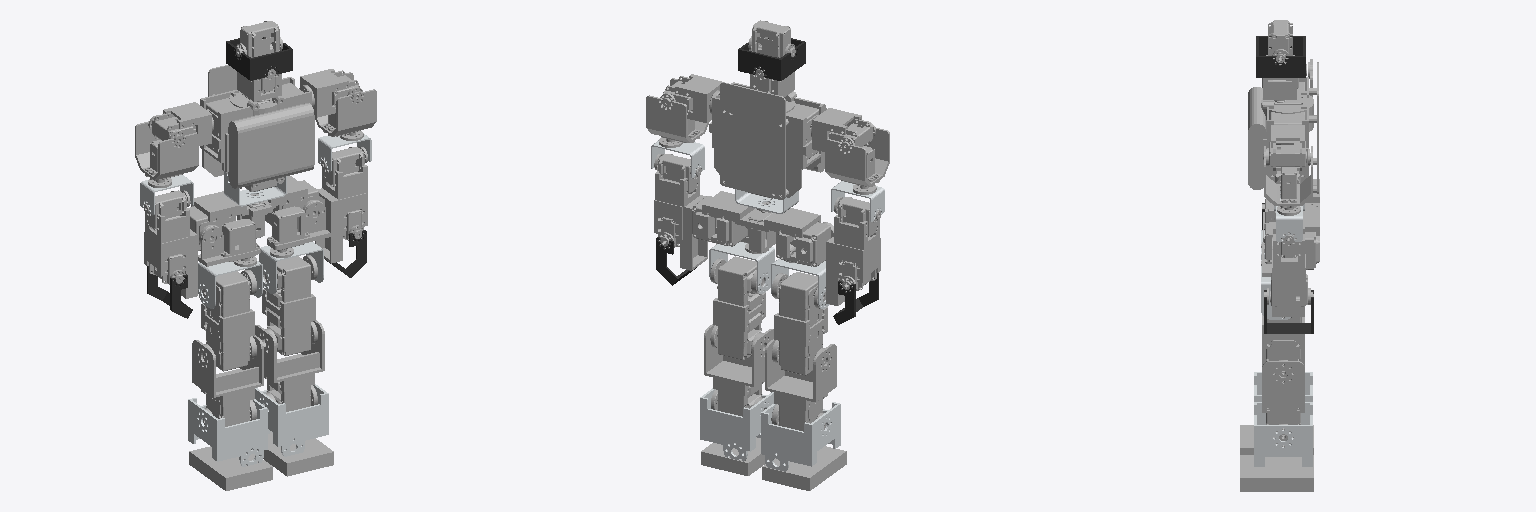
--- What the picture shows (computed from the rendered views, not written in the file) ---
The picture shows the robot from 3 angles, left to right: view 1: azimuth 30°, elevation 25°; view 2: azimuth 150°, elevation 25°; view 3: azimuth 270°, elevation 25°; orthographic projection.
Robot: human_robot — 30 links, 29 joints (12 continuous, 17 fixed); root link base_link; default pose: all joints at 0.
Links seen in each view (by area): view 1: body_link, R_armD_Link, L_armD_Link, R_thignD_Link, L_thignD_Link, R_shank_Link, L_shank_Link, waist_Link, R_ankle_Link, R_arm_Link, L_ankle_Link, L_hip_Link (+16 smaller); view 2: body_link, waist_Link, R_thignD_Link, L_thignD_Link, R_armD_Link, L_armD_Link, R_shank_Link, L_shank_Link, R_ankle_Link, R_arm_Link, L_ankle_Link, L_arm_Link (+14 smaller); view 3: body_link, L_armD_Link, L_shank_Link, L_ankle_Link, L_foot_Link, L_arm_Link, L_shoulder_Link, face_Link, L_thignD_Link, waist_Link, head_Link, neck_Link (+3 smaller).
Boxes of the visible links, x1,y1,x2,y2 form: body_link: (200,65,314,191); R_armD_Link: (144,190,197,298); L_armD_Link: (315,147,367,263); R_thignD_Link: (201,270,256,371); L_thignD_Link: (262,255,317,355); R_shank_Link: (192,335,263,426); L_shank_Link: (255,320,324,411); waist_Link: (188,176,323,250); R_ankle_Link: (188,398,267,466); R_arm_Link: (135,121,198,187); L_ankle_Link: (255,384,328,456); L_hip_Link: (267,201,330,257); body_link: (709,82,826,199); waist_Link: (692,191,833,266); R_thignD_Link: (772,272,827,375); L_thignD_Link: (710,256,766,359); R_armD_Link: (826,197,880,305); L_armD_Link: (654,154,707,270); R_shank_Link: (765,339,836,431); L_shank_Link: (704,324,773,416); R_ankle_Link: (761,402,840,471); R_arm_Link: (825,127,889,194); L_ankle_Link: (700,388,773,461); L_arm_Link: (646,78,708,147); body_link: (1248,62,1318,194); L_armD_Link: (1264,227,1313,316); L_shank_Link: (1262,349,1304,446); L_ankle_Link: (1254,402,1312,466); L_foot_Link: (1240,455,1313,491); L_arm_Link: (1264,146,1312,215); L_shoulder_Link: (1263,125,1312,170); face_Link: (1256,36,1305,77); L_thignD_Link: (1262,315,1304,382); waist_Link: (1275,179,1319,269); head_Link: (1268,20,1292,64); neck_Link: (1262,55,1298,99).
Bounding box of the posed robot: 0.1916 × 0.0597 × 0.362 m (x, y, z).
Meshes: 26 distinct files referenced, 26 mesh visuals loaded (26 binary STL).

URDF robot description (human_robot):
<?xml version="1.0" encoding="utf-8"?>

<robot
  name="human_robot">
<!-- 
<link name="world"/>
  <joint name="base" type="fixed">
    <parent link="world"/>
    <child link="body_link"/>
  </joint> -->


<link name="base_link"/>
<joint name="base" type="fixed">
    <parent link="base_link"/>
    <child link="body_link"/>
  </joint>

  <link
    name="body_link">
    <inertial>
      <origin
        xyz="0.00031235 -0.0075844 -0.018215"
        rpy="0 0 0" />
      <mass
        value="0.36015" />
      <inertia
        ixx="0.0002423"
        ixy="0.0"
        ixz="0.0"
        iyy="0.0002723"
        iyz="0.0"
        izz="0.00025037" />
    </inertial>
    <visual>
      <origin
        xyz="0 0 0"
        rpy="0 0 0" />
      <geometry>
        <mesh
          filename="package://humanrobo/src/meshes/body_link.STL" />
          <!-- <box size="0.01 0.01 0.01"/> -->
      </geometry>
      <material
        name="">
        <color
          rgba="0.75294 0.75294 0.75294 1" />
      </material>
    </visual>
    <collision>
      <origin
        xyz="0 0 0"
        rpy="0 0 0" />
      <geometry>
        <!-- <mesh
          filename="package://humanrobo/src/meshes/body_link.STL" /> -->
          <box size="0.01 0.01 0.01"/>
      </geometry>
    </collision>
  </link>
   <link
    name="imu_link">
    <inertial>
      <origin
        xyz="0.0 0.0 0.0"
        rpy="0 0 0" />
      <mass
        value="0.0000001" />
      <inertia
        ixx="1.0E-13"
        ixy="0.0"
        ixz="0.0"
        iyy="1.0E-13"
        iyz="0.0"
        izz="1.0E-13" />
    </inertial>
    <visual>
      <origin
        xyz="0 0 0.0"
        rpy="0 0 0" />
      <geometry>
        <cylinder length="0.02" radius="0.02"/>
      </geometry>
      <material
        name="">
        <color
          rgba="0.752941176470588 0.752941176470588 0.752941176470588 1" />
      </material>
    </visual>
    <collision>
      <origin
        xyz="0 0 0.0"
        rpy="0 0 0" />
      <geometry>
        <cylinder length="0.01" radius="0.01"/>
      </geometry>
    </collision>
  </link>
 <joint name="imu_joint" type="fixed">
        <parent link="body_link" />
        <child link="imu_link" />
        <origin xyz="0 0 0.0" />
 </joint>
 <gazebo reference="imu_link">
      <sensor name="imu_sensor" type="imu">
      <plugin filename="libgazebo_ros_imu_sensor.so" name="imu_plugin">
          <ros>
            <namespace>/humanrobo/imu</namespace>
            <remapping>~/out:=imu</remapping>
          </ros>
          <initial_orientation_as_reference>false</initial_orientation_as_reference>
          <topicName>/humanrobo/imu</topicName>
          <frameName>imu_link</frameName>
          <updateRateHZ>50</updateRateHZ>
        </plugin>
        <always_on>true</always_on>
        <update_rate>50</update_rate>
        <visualize>true</visualize>
        
        <imu>
          <angular_velocity>
            <x>
              <noise type="gaussian">
                <mean>0.0</mean>
                <stddev>2e-4</stddev>
                <bias_mean>0.0000075</bias_mean>
                <bias_stddev>0.0000008</bias_stddev>
              </noise>
            </x>
            <y>
              <noise type="gaussian">
                <mean>0.0</mean>
                <stddev>2e-4</stddev>
                <bias_mean>0.0000075</bias_mean>
                <bias_stddev>0.0000008</bias_stddev>
              </noise>
            </y>
            <z>
              <noise type="gaussian">
                <mean>0.0</mean>
                <stddev>2e-4</stddev>
                <bias_mean>0.0000075</bias_mean>
                <bias_stddev>0.0000008</bias_stddev>
              </noise>
            </z>
          </angular_velocity>
          <linear_acceleration>
            <x>
              <noise type="gaussian">
                <mean>0.0</mean>
                <stddev>1.7e-2</stddev>
                <bias_mean>0.1</bias_mean>
                <bias_stddev>0.001</bias_stddev>
              </noise>
            </x>
            <y>
              <noise type="gaussian">
                <mean>0.0</mean>
                <stddev>1.7e-2</stddev>
                <bias_mean>0.1</bias_mean>
                <bias_stddev>0.001</bias_stddev>
              </noise>
            </y>
            <z>
              <noise type="gaussian">
                <mean>0.0</mean>
                <stddev>1.7e-2</stddev>
                <bias_mean>0.1</bias_mean>
                <bias_stddev>0.001</bias_stddev>
              </noise>
            </z>
          </linear_acceleration>
        </imu>
      </sensor>
    </gazebo>
  <link
    name="neck_Link">
    <inertial>
      <origin
        xyz="3.3775E-06 0.016907 -0.00057139"
        rpy="0 0 0" />
      <mass
        value="0.023818" />
      <inertia
        ixx="4.382E-06"
        ixy="0"
        ixz="0"
        iyy="3.561E-06"
        iyz="0"
        izz="2.39E-06" />
    </inertial>
    <visual>
      <origin
        xyz="0 0 0"
        rpy="0 0 0" />
      <geometry>
        <mesh
          filename="package://humanrobo/src/meshes/neck_Link.STL" />
          <!-- <box size="0.01 0.01 0.01"/> -->
      </geometry>
      <material
        name="">
        <color
          rgba="0.75294 0.75294 0.75294 1" />
      </material>
    </visual>
    <collision>
      <origin
        xyz="0 0 0"
        rpy="0 0 0" />
      <geometry>
        <!-- <mesh
          filename="package://humanrobo/src/meshes/neck_Link.STL" /> -->
          <box size="0.01 0.01 0.01"/>
      </geometry>
    </collision>
  </link>
  <joint
    name="neck_yaw"
    type="fixed">


    <origin
      xyz="0 -0.0056956 0.0166"
      rpy="1.5708 0 0" />
    <parent
      link="body_link" />
    <child
      link="neck_Link" />
    <axis
      xyz="0 1 0" />
  </joint>
  <link
    name="face_Link">
    <inertial>
      <origin
        xyz="2.1608E-09 -0.0068654 0.0004"
        rpy="0 0 0" />
      <mass
        value="0.0043952" />
      <inertia
        ixx="1.0402E-06"
        ixy="0"
        ixz="0"
        iyy="1.8626E-06"
        iyz="0"
        izz="1.0429E-06" />
    </inertial>
    <visual>
      <origin
        xyz="0 0 0"
        rpy="0 0 0" />
      <geometry>
        <mesh
          filename="package://humanrobo/src/meshes/face_Link.STL" />
          <!-- <box size="0.01 0.01 0.01"/> -->
      </geometry>
      <material
        name="">
        <color
          rgba="0.25098 0.25098 0.25098 1" />
      </material>
    </visual>
    <collision>
      <origin
        xyz="0 0 0"
        rpy="0 0 0" />
      <geometry>
        <!-- <mesh
          filename="package://humanrobo/src/meshes/face_Link.STL" /> -->
          <box size="0.01 0.01 0.01"/>
      </geometry>
    </collision>
  </link>
  <joint
    name="neck_roll"
    type="fixed">


    <origin
      xyz="0 0.023272 0"
      rpy="-3.1416 0 0" />
    <parent
      link="neck_Link" />
    <child
      link="face_Link" />
    <axis
      xyz="0 0 1" />
  </joint>
  <link
    name="head_Link">
    <inertial>
      <origin
        xyz="-0.0047445 3.9018E-06 0.00026335"
        rpy="0 0 0" />
      <mass
        value="0.020617" />
      <inertia
        ixx="3.05E-06"
        ixy="0"
        ixz="0"
        iyy="3.64E-06"
        iyz="0"
        izz="1.61E-06" />
    </inertial>
    <visual>
      <origin
        xyz="0 0 0"
        rpy="0 0 0" />
      <geometry>
        <mesh
          filename="package://humanrobo/src/meshes/head_Link.STL" />
          <!-- <box size="0.01 0.01 0.01"/> -->
      </geometry>
      <material
        name="">
        <color
          rgba="0.75294 0.75294 0.75294 1" />
      </material>
    </visual>
    <collision>
      <origin
        xyz="0 0 0"
        rpy="0 0 0" />
      <geometry>
        <!-- <mesh
          filename="package://humanrobo/src/meshes/head_Link.STL" /> -->
          <box size="0.01 0.01 0.01"/>
      </geometry>
    </collision>
  </link>
  <joint
    name="neck_pitch"
    type="fixed">


    <origin
      xyz="0 -0.01392 0.0004"
      rpy="-1.5708 0 1.5708" />
    <parent
      link="face_Link" />
    <child
      link="head_Link" />
    <axis
      xyz="0 0 1" />
  </joint>
  <link
    name="L_shoulder_Link">
    <inertial>
      <origin
        xyz="0.024716 0.00017384 4.406E-05"
        rpy="0 0 0" />
      <mass
        value="0.024989" />
      <inertia
        ixx="3.77E-06"
        ixy="0"
        ixz="0"
        iyy="5.4E-06"
        iyz="0"
        izz="3.37E-06" />
    </inertial>
    <visual>
      <origin
        xyz="0 0 0"
        rpy="0 0 0" />
      <geometry>
        <mesh
          filename="package://humanrobo/src/meshes/L_shoulder_Link.STL" />
          <!-- <box size="0.01 0.01 0.01"/> -->
      </geometry>
      <material
        name="">
        <color
          rgba="0.75294 0.75294 0.75294 1" />
      </material>
    </visual>
    <collision>
      <origin
        xyz="0 0 0"
        rpy="0 0 0" />
      <geometry>
        <!-- <mesh
          filename="package://humanrobo/src/meshes/L_shoulder_Link.STL" /> -->
          <box size="0.01 0.01 0.01"/>
      </geometry>
    </collision>
  </link>
  <joint
    name="L_shoulder_BF"
    type="fixed">


    <origin
      xyz="0.044847 0 0"
      rpy="1.6211 -0.00060792 0.02417" />
    <parent
      link="body_link" />
    <child
      link="L_shoulder_Link" />
    <axis
      xyz="0.99971 0.00060792 0.024168" />
  </joint>
  <link
    name="L_arm_Link">
    <inertial>
      <origin
        xyz="0.00014899 -0.025512 0.00056858"
        rpy="0 0 0" />
      <mass
        value="0.028234" />
      <inertia
        ixx="4.6E-06"
        ixy="0"
        ixz="0"
        iyy="3.76E-06"
        iyz="0"
        izz="4.71E-06" />
    </inertial>
    <visual>
      <origin
        xyz="0 0 0"
        rpy="0 0 0" />
      <geometry>
        <mesh
          filename="package://humanrobo/src/meshes/L_arm_Link.STL" />
          <!-- <box size="0.01 0.01 0.01"/> -->
      </geometry>
      <material
        name="">
        <color
          rgba="0.75294 0.75294 0.75294 1" />
      </material>
    </visual>
    <collision>
      <origin
        xyz="0 0 0"
        rpy="0 0 0" />
      <geometry>
        <!-- <mesh
          filename="package://humanrobo/src/meshes/L_arm_Link.STL" /> -->
          <box size="0.01 0.01 0.01"/>
      </geometry>
    </collision>
  </link>
  <joint
    name="L_shoulder_IO"
    type="fixed">


    <origin
      xyz="0.032545 1.979E-05 0.00078676"
      rpy="0 0 0" />
    <parent
      link="L_shoulder_Link" />
    <child
      link="L_arm_Link" />
    <axis
      xyz="0.024168 -0.050269 -0.99844" />
  </joint>
  <link
    name="L_elbow_Link">
    <inertial>
      <origin
        xyz="0.0064111 -0.0051776 0.00010597"
        rpy="0 0 0" />
      <mass
        value="0.003398" />
      <inertia
        ixx="2.4076E-07"
        ixy="0"
        ixz="0"
        iyy="8.0772E-07"
        iyz="0"
        izz="7.9803E-07" />
    </inertial>
    <visual>
      <origin
        xyz="0 0 0"
        rpy="0 0 0" />
      <geometry>
        <mesh
          filename="package://humanrobo/src/meshes/L_elbow_Link.STL" />
          <!-- <box size="0.01 0.01 0.01"/> -->
      </geometry>
      <material
        name="">
        <color
          rgba="0.89804 0.91765 0.92941 1" />
      </material>
    </visual>
    <collision>
      <origin
        xyz="0 0 0"
        rpy="0 0 0" />
      <geometry>
        <!-- <mesh
          filename="package://humanrobo/src/meshes/L_elbow_Link.STL" /> -->
          <box size="0.01 0.01 0.01"/>
      </geometry>
    </collision>
  </link>
  <joint
    name="L_elbow_SP"
    type="fixed">


    <origin
      xyz="0.0060743 -0.041588 0.0013098"
      rpy="-3.0913 0.02417 -3.141" />
    <parent
      link="L_arm_Link" />
    <child
      link="L_elbow_Link" />
    <axis
      xyz="0 1 0" />
  </joint>
  <link
    name="L_armD_Link">
    <inertial>
      <origin
        xyz="-0.0064821 -0.029607 0.00012813"
        rpy="0 0 0" />
      <mass
        value="0.052503" />
      <inertia
        ixx="3.232E-05"
        ixy="0"
        ixz="0"
        iyy="8.37E-06"
        iyz="-00"
        izz="3.267E-05" />
    </inertial>
    <visual>
      <origin
        xyz="0 0 0"
        rpy="0 0 0" />
      <geometry>
        <mesh
          filename="package://humanrobo/src/meshes/L_armD_Link.STL" />
          <!-- <box size="0.01 0.01 0.01"/> -->
      </geometry>
      <material
        name="">
        <color
          rgba="0.75294 0.75294 0.75294 1" />
      </material>
    </visual>
    <collision>
      <origin
        xyz="0 0 0"
        rpy="0 0 0" />
      <geometry>
        <!-- <mesh
          filename="package://humanrobo/src/meshes/L_armD_Link.STL" /> -->
          <box size="0.01 0.01 0.01"/>
      </geometry>
    </collision>
  </link>
  <joint
    name="L_elbow_BD"
    type="fixed">


    <origin
      xyz="0 -0.018128 0.00010004"
      rpy="-3.1416 -0.02417 -3.141" />
    <parent
      link="L_elbow_Link" />
    <child
      link="L_armD_Link" />
    <axis
      xyz="0.99971 0.00060792 0.024168" />
  </joint>
  <link
    name="L_hand_Link">
    <inertial>
      <origin
        xyz="-0.0024325 -0.020572 0.00035"
        rpy="0 0 0" />
      <mass
        value="0.001859" />
      <inertia
        ixx="6.55E-07"
        ixy="0"
        ixz="0"
        iyy="5.1338E-07"
        iyz="0"
        izz="2.5197E-07" />
    </inertial>
    <visual>
      <origin
        xyz="0 0 0"
        rpy="0 0 0" />
      <geometry>
        <mesh
          filename="package://humanrobo/src/meshes/L_hand_Link.STL" />
          <!-- <box size="0.01 0.01 0.01"/> -->
      </geometry>
      <material
        name="">
        <color
          rgba="0.25098 0.25098 0.25098 1" />
      </material>
    </visual>
    <collision>
      <origin
        xyz="0 0 0"
        rpy="0 0 0" />
      <geometry>
        <!-- <mesh
          filename="package://humanrobo/src/meshes/L_hand_Link.STL" /> -->
          <box size="0.01 0.01 0.01"/>
      </geometry>
    </collision>
  </link>
  <joint
    name="L_hand"
    type="fixed">


    <origin
      xyz="-0.0048671 -0.05515 -0.00011766"
      rpy="-1.4696E-05 -0.02417 0.0006081" />
    <parent
      link="L_armD_Link" />
    <child
      link="L_hand_Link" />
    <axis
      xyz="0 0 1" />
  </joint>
  <link
    name="R_shoulder_Link">
    <inertial>
      <origin
        xyz="-0.023927 0.00019287 -0.00055003"
        rpy="0 0 0" />
      <mass
        value="0.024989" />
      <inertia
        ixx="3.77E-06"
        ixy="0"
        ixz="0"
        iyy="5.41E-06"
        iyz="0"
        izz="3.37E-06" />
    </inertial>
    <visual>
      <origin
        xyz="0 0 0"
        rpy="0 0 0" />
      <geometry>
        <mesh
          filename="package://humanrobo/src/meshes/R_shoulder_Link.STL" />
          <!-- <box size="0.01 0.01 0.01"/> -->
      </geometry>
      <material
        name="">
        <color
          rgba="0.75294 0.75294 0.75294 1" />
      </material>
    </visual>
    <collision>
      <origin
        xyz="0 0 0"
        rpy="0 0 0" />
      <geometry>
        <!-- <mesh
          filename="package://humanrobo/src/meshes/R_shoulder_Link.STL" /> -->
          <box size="0.01 0.01 0.01"/>
      </geometry>
    </collision>
  </link>
  <joint
    name="R_shoulder_BF"
    type="fixed">


    <origin
      xyz="-0.04523 0 0"
      rpy="1.5708 0 0" />
    <parent
      link="body_link" />
    <child
      link="R_shoulder_Link" />
    <axis
      xyz="1 0 0" />
  </joint>
  <link
    name="R_arm_Link">
    <inertial>
      <origin
        xyz="-8.455E-05 -0.02551 -0.00029441"
        rpy="0 0 0" />
      <mass
        value="0.028234" />
      <inertia
        ixx="4.6004E-06"
        ixy="0"
        ixz="0"
        iyy="3.75E-06"
        iyz="0"
        izz="4.71E-06" />
    </inertial>
    <visual>
      <origin
        xyz="0 0 0"
        rpy="0 0 0" />
      <geometry>
        <mesh
          filename="package://humanrobo/src/meshes/R_arm_Link.STL" />
          <!-- <box size="0.01 0.01 0.01"/> -->
      </geometry>
      <material
        name="">
        <color
          rgba="0.75294 0.75294 0.75294 1" />
      </material>
    </visual>
    <collision>
      <origin
        xyz="0 0 0"
        rpy="0 0 0" />
      <geometry>
        <!-- <mesh
          filename="package://humanrobo/src/meshes/R_arm_Link.STL" /> -->
          <box size="0.01 0.01 0.01"/>
      </geometry>
    </collision>
  </link>
  <joint
    name="R_shoulder_IO"
    type="fixed">


    <origin
      xyz="-0.031773 0 0"
      rpy="0 0 0" />
    <parent
      link="R_shoulder_Link" />
    <child
      link="R_arm_Link" />
    <axis
      xyz="0 0 1" />
  </joint>
  <link
    name="R_elbow_Link">
    <inertial>
      <origin
        xyz="0.0064111 -0.0051776 0.00010597"
        rpy="0 0 0" />
      <mass
        value="0.003398" />
      <inertia
        ixx="2.4076E-07"
        ixy="0"
        ixz="0"
        iyy="8.0772E-07"
        iyz="0"
        izz="7.9803E-07" />
    </inertial>
    <visual>
      <origin
        xyz="0 0 0"
        rpy="0 0 0" />
      <geometry>
        <mesh
          filename="package://humanrobo/src/meshes/R_elbow_Link.STL" />
          <!-- <box size="0.01 0.01 0.01"/> -->
      </geometry>
      <material
        name="">
        <color
          rgba="0.89804 0.91765 0.92941 1" />
      </material>
    </visual>
    <collision>
      <origin
        xyz="0 0 0"
        rpy="0 0 0" />
      <geometry>
        <!-- <mesh
          filename="package://humanrobo/src/meshes/R_elbow_Link.STL" /> -->
          <box size="0.01 0.01 0.01"/>
      </geometry>
    </collision>
  </link>
  <joint
    name="R_elbow_SP"
    type="fixed">


    <origin
      xyz="-0.006 -0.0416 -0.00030004"
      rpy="0 0 0" />
    <parent
      link="R_arm_Link" />
    <child
      link="R_elbow_Link" />
    <axis
      xyz="0 1 0" />
  </joint>
  <link
    name="R_armD_Link">
    <inertial>
      <origin
        xyz="0.0067823 -0.029623 0.00044333"
        rpy="0 0 0" />
      <mass
        value="0.052503" />
      <inertia
        ixx="3.237E-05"
        ixy="0"
        ixz="0"
        iyy="8.41E-06"
        iyz="0"
        izz="3.274E-05" />
    </inertial>
    <visual>
      <origin
        xyz="0 0 0"
        rpy="0 0 0" />
      <geometry>
        <mesh
          filename="package://humanrobo/src/meshes/R_armD_Link.STL" />
          <!-- <box size="0.01 0.01 0.01"/> -->
      </geometry>
      <material
        name="">
        <color
          rgba="0.75294 0.75294 0.75294 1" />
      </material>
    </visual>
    <collision>
      <origin
        xyz="0 0 0"
        rpy="0 0 0" />
      <geometry>
        <!-- <mesh
          filename="package://humanrobo/src/meshes/R_armD_Link.STL" /> -->
          <box size="0.01 0.01 0.01"/>
      </geometry>
    </collision>
  </link>
  <joint
    name="R_elbow_BD"
    type="fixed">


    <origin
      xyz="0 -0.018128 0.00010004"
      rpy="0 0 0" />
    <parent
      link="R_elbow_Link" />
    <child
      link="R_armD_Link" />
    <axis
      xyz="1 0 0" />
  </joint>
  <link
    name="R_hand_Link">
    <inertial>
      <origin
        xyz="-0.0024325 -0.020572 -0.00093518"
        rpy="0 0 0" />
      <mass
        value="0.001859" />
      <inertia
        ixx="6.55E-07"
        ixy="0"
        ixz="0"
        iyy="5.1338E-07"
        iyz="0"
        izz="2.5197E-07" />
    </inertial>
    <visual>
      <origin
        xyz="0 0 0"
        rpy="0 0 0" />
      <geometry>
        <mesh
          filename="package://humanrobo/src/meshes/R_hand_Link.STL" />
          <!-- <box size="0.01 0.01 0.01"/> -->
      </geometry>
      <material
        name="">
        <color
          rgba="0.25098 0.25098 0.25098 1" />
      </material>
    </visual>
    <collision>
      <origin
        xyz="0 0 0"
        rpy="0 0 0" />
      <geometry>
        <!-- <mesh
          filename="package://humanrobo/src/meshes/R_hand_Link.STL" /> -->
          <box size="0.01 0.01 0.01"/>
      </geometry>
    </collision>
  </link>
  <joint
    name="R_hand"
    type="fixed">
    <origin
      xyz="0.0057924 -0.055194 0"
      rpy="-3.1416 0 -3.1416" />
    <parent
      link="R_armD_Link" />
    <child
      link="R_hand_Link" />
    <axis
      xyz="0 0 1" />
  </joint>
  <link
    name="bodyD_Link">
    <inertial>
      <origin
        xyz="-0.0015723 -0.014811 -0.00028399"
        rpy="0 0 0" />
      <mass
        value="0.0043579" />
      <inertia
        ixx="1.357E-06"
        ixy="0"
        ixz="0"
        iyy="1.3964E-06"
        iyz="0"
        izz="3.7932E-07" />
    </inertial>
    <visual>
      <origin
        xyz="0 0 0"
        rpy="0 0 0" />
      <geometry>
        <mesh
          filename="package://humanrobo/src/meshes/bodyD_Link.STL" />
          <!-- <box size="0.01 0.01 0.01"/> -->
      </geometry>
      <material
        name="">
        <color
          rgba="0.89804 0.91765 0.92941 1" />
      </material>
    </visual>
    <collision>
      <origin
        xyz="0 0 0"
        rpy="0 0 0" />
      <geometry>
        <!-- <mesh
          filename="package://humanrobo/src/meshes/bodyD_Link.STL" /> -->
          <box size="0.01 0.01 0.01"/>
      </geometry>
    </collision>
  </link>
  <joint
    name="waist_bow"
    type="fixed">

<!--  -->
    <origin
      xyz="0 0 -0.052002"
      rpy="1.5708 0 -1.5708" />
      <!-- <origin
      xyz="0 9.6389E-05 -0.052002"
      rpy="1.5708 0 -1.5708" /> -->
    <parent
      link="body_link" />
    <child
      link="bodyD_Link" />
    <axis
      xyz="0 0 1" />
  </joint>
  <link
    name="waist_Link">
    <inertial>
      <origin
        xyz="3.2702E-05 -0.014662 -0.006628"
        rpy="0 0 0" />
      <mass
        value="0.10912" />
      <inertia
        ixx="1.84E-05"
        ixy="0.0"
        ixz="0.0"
        iyy="0.00011"
        iyz="0.0"
        izz="0.00011273" />
    </inertial>
    <visual>
      <origin
        xyz="0 0 0"
        rpy="0 0 0" />
      <geometry>
        <mesh
          filename="package://humanrobo/src/meshes/waist_Link.STL" />
          <!-- <box size="0.01 0.01 0.01"/> -->
      </geometry>
      <material
        name="">
        <color
          rgba="0.75294 0.75294 0.75294 1" />
      </material>
    </visual>
    <collision>
      <origin
        xyz="0 0 0"
        rpy="0 0 0" />
      <geometry>
        <!-- <mesh
          filename="package://humanrobo/src/meshes/waist_Link.STL" /> -->
          <box size="0.01 0.01 0.01"/>
      </geometry>
    </collision>
  </link>
  <joint
    name="waist_SP"
    type="fixed">
    <origin
      xyz="-0.0022 -0.02 -0.00028397"
      rpy="0 1.5708 0" />
    <parent
      link="bodyD_Link" />
    <child
      link="waist_Link" />
    <axis
      xyz="0 1 0" />
  </joint>
  <link
    name="L_hip_Link">
    <inertial>
      <origin
        xyz="-0.019345290107797 -0.0121029945148015 0.00909334937738589"
        rpy="0 0 0" />
      <mass
        value="0.0276397239506233" />
      <inertia
        ixx="2.6E-06"
        ixy="0"
        ixz="0"
        iyy="3.96E-06"
        iyz="0"
        izz="5.65E-06" />
    </inertial>
    <visual>
      <origin
        xyz="0 0 0"
        rpy="0 0 0" />
      <geometry>
        <mesh
          filename="package://humanrobo/src/meshes/L_hip_Link.STL" />
          <!-- <box size="0.01 0.01 0.01"/> -->
      </geometry>
      <material
        name="">
        <color
          rgba="0.752941176470588 0.752941176470588 0.752941176470588 1" />
      </material>
    </visual>
    <collision>
      <origin
        xyz="0 0 0"
        rpy="0 0 0" />
      <geometry>
        <!-- <mesh
          filename="package://humanrobo/src/meshes/L_hip_Link.STL" /> -->
          <box size="0.01 0.01 0.01"/>
      </geometry>
    </collision>
  </link>
  <joint
    name="L_hip_IO"
    type="continuous">
     <dynamics damping="0.002"/>


    <origin
      xyz="0.044501 -0.019602 0.004238"
      rpy="0 0 0" />
    <parent
      link="waist_Link" />
    <child
      link="L_hip_Link" />
    <axis
      xyz="0 0 1" />
  </joint>
  <link
    name="L_thign_Link">
    <inertial>
      <origin
        xyz="-0.0036508 -0.008552 -0.010987"
        rpy="0 0 0" />
      <mass
        value="0.006204" />
      <inertia
        ixx="2.3895E-06"
        ixy="0"
        ixz="0"
        iyy="2.1933E-06"
        iyz="0"
        izz="9.0729E-07" />
    </inertial>
    <visual>
      <origin
        xyz="0 0 0"
        rpy="0 0 0" />
      <geometry>
        <mesh
          filename="package://humanrobo/src/meshes/L_thign_Link.STL" />
          <!-- <box size="0.01 0.01 0.01"/> -->
      </geometry>
      <material
        name="">
        <color
          rgba="0.89804 0.91765 0.92941 1" />
      </material>
    </visual>
    <collision>
      <origin
        xyz="0 0 0"
        rpy="0 0 0" />
      <geometry>
        <!-- <mesh
          filename="package://humanrobo/src/meshes/L_thign_Link.STL" /> -->
          <box size="0.01 0.01 0.01"/>
      </geometry>
    </collision>
  </link>
  <joint
    name="L_thign_SP"
    type="continuous">
     <dynamics damping="0.002"/>


    <origin
      xyz="-0.028692 -0.0263 0.009"
      rpy="1.5708 -1.5708 -1.5708" />
    <parent
      link="L_hip_Link" />
    <child
      link="L_thign_Link" />
    <axis
      xyz="0 1 0" />
  </joint>
  <link
    name="L_thignD_Link">
    <inertial>
      <origin
        xyz="0.009327 -0.026501 -2.0196E-08"
        rpy="0 0 0" />
      <mass
        value="0.075003" />
      <inertia
        ixx="3.977E-05"
        ixy="0"
        ixz="0"
        iyy="1.39E-05"
        iyz="0"
        izz="4.122E-05" />
    </inertial>
    <visual>
      <origin
        xyz="0 0 0"
        rpy="0 0 0" />
      <geometry>
        <mesh
          filename="package://humanrobo/src/meshes/L_thignD_Link.STL" />
          <!-- <box size="0.01 0.01 0.01"/> -->
      </geometry>
      <material
        name="">
        <color
          rgba="0.75294 0.75294 0.75294 1" />
      </material>
    </visual>
    <collision>
      <origin
        xyz="0 0 0"
        rpy="0 0 0" />
      <geometry>
        <!-- <mesh
          filename="package://humanrobo/src/meshes/L_thignD_Link.STL" /> -->
          <box size="0.01 0.01 0.01"/>
      </geometry>
    </collision>
  </link>
  <joint
    name="L_thign_BF"
    type="continuous">
     <dynamics damping="0.002"/>


    <origin
      xyz="-0.0078324 -0.022002 0"
      rpy="0 1.5708 0" />
    <parent
      link="L_thign_Link" />
    <child
      link="L_thignD_Link" />
    <axis
      xyz="1 0 0" />
  </joint>
  <link
    name="L_shank_Link">
    <inertial>
      <origin
        xyz="0.0097137 -0.034273 0.0005591"
        rpy="0 0 0" />
      <mass
        value="0.057967" />
      <inertia
        ixx="2.36E-05"
        ixy="0"
        ixz="0"
        iyy="1.507E-05"
        iyz="0"
        izz="2.877E-05" />
    </inertial>
    <visual>
      <origin
        xyz="0 0 0"
        rpy="0 0 0" />
      <geometry>
        <mesh
          filename="package://humanrobo/src/meshes/L_shank_Link.STL" />
          <!-- <box size="0.01 0.01 0.01"/> -->
      </geometry>
      <material
        name="">
        <color
          rgba="0.75294 0.75294 0.75294 1" />
      </material>
    </visual>
    <collision>
      <origin
        xyz="0 0 0"
        rpy="0 0 0" />
      <geometry>
        <!-- <mesh
          filename="package://humanrobo/src/meshes/L_shank_Link.STL" /> -->
          <box size="0.01 0.01 0.01"/>
      </geometry>
    </collision>
  </link>
  <joint
    name="L_knee"
    type="continuous">
     <dynamics damping="0.002"/>


    <origin
      xyz="0 -0.053002 0"
      rpy="0 0 0" />
    <parent
      link="L_thignD_Link" />
    <child
      link="L_shank_Link" />
    <axis
      xyz="1 0 0" />
  </joint>
  <link
    name="L_ankle_Link">
    <inertial>
      <origin
        xyz="-0.00013247 -0.0089377 0.0099976"
        rpy="0 0 0" />
      <mass
        value="0.0265" />
      <inertia
        ixx="1.0413E-05"
        ixy="0"
        ixz="-00"
        iyy="1.5837E-05"
        iyz="0"
        izz="1.1392E-05" />
    </inertial>
    <visual>
      <origin
        xyz="0 0 0"
        rpy="0 0 0" />
      <geometry>
        <mesh
          filename="package://humanrobo/src/meshes/L_ankle_Link.STL" />
          <!-- <box size="0.01 0.01 0.01"/> -->
      </geometry>
      <material
        name="">
        <color
          rgba="0.89804 0.91765 0.92941 1" />
      </material>
    </visual>
    <collision>
      <origin
        xyz="0 0 0"
        rpy="0 0 0" />
      <geometry>
        <!-- <mesh
          filename="package://humanrobo/src/meshes/L_ankle_Link.STL" /> -->
          <box size="0.01 0.01 0.01"/>
      </geometry>
    </collision>
  </link>
  <joint
    name="L_ankle_BF"
    type="continuous">
     <dynamics damping="0.002"/>


    <origin
      xyz="0 -0.05329 0"
      rpy="1.5708 1.5708 1.5708" />
    <parent
      link="L_shank_Link" />
    <child
      link="L_ankle_Link" />
    <axis
      xyz="0 0 1" />
  </joint>
  <link
    name="L_foot_Link">
    <inertial>
      <origin
        xyz="0.0075693 -0.0053088 0.005564"
        rpy="0 0 0" />
      <mass
        value="0.055122" />
      <inertia
        ixx="1.96E-05"
        ixy="0"
        ixz="0"
        iyy="2.29E-05"
        iyz="-0"
        izz="1.331E-05" />
    </inertial>
    <visual>
      <origin
        xyz="0.0085 -0.0112 0.005"
        rpy="0 0 0" />
      <geometry>
        <!-- <mesh
          filename="package://humanrobo/src/meshes/L_foot_Link.STL" /> -->
          <box size="0.041 0.011 0.055"/>
      </geometry>
      <material
        name="">
        <color
          rgba="0.75294 0.75294 0.75294 1" />
      </material>
    </visual>
    <collision>
      <origin
        xyz="0.0085 -0.0112 0.005"
        rpy="0 0 0" />
      <geometry>
        <!-- <mesh
          filename="package://humanrobo/src/meshes/L_foot_Link.STL" /> -->
        <box size="0.041 0.011 0.055"/>
      </geometry>
    </collision>
  </link>
  <joint
    name="L_foot"
    type="continuous">
     <dynamics damping="0.002"/>


    <origin
      xyz="0 -0.027997 0.002143"
      rpy="-1.5708 -1.5708 1.5708" />
    <parent
      link="L_ankle_Link" />
    <child
      link="L_foot_Link" />
    <axis
      xyz="0 0 1" />
  </joint>
  <link
    name="R_hip_Link">
    <inertial>
      <origin
        xyz="0.019345 -0.012103 0.0089067"
        rpy="0 0 0" />
      <mass
        value="0.02764" />
      <inertia
        ixx="2.6E-06"
        ixy="0"
        ixz="0"
        iyy="3.96E-06"
        iyz="0"
        izz="5.65E-06" />
    </inertial>
    <visual>
      <origin
        xyz="0 0 0"
        rpy="0 0 0" />
      <geometry>
        <mesh
          filename="package://humanrobo/src/meshes/R_hip_Link.STL" />
          <!-- <box size="0.01 0.01 0.01"/> -->
      </geometry>
      <material
        name="">
        <color
          rgba="0.75294 0.75294 0.75294 1" />
      </material>
    </visual>
    <collision>
      <origin
        xyz="0 0 0"
        rpy="0 0 0" />
      <geometry>
        <!-- <mesh
          filename="package://humanrobo/src/meshes/R_hip_Link.STL" /> -->
          <box size="0.01 0.01 0.01"/>
      </geometry>
    </collision>
  </link>
  <joint
    name="R_hip_IO"
    type="continuous">
     <dynamics damping="0.002"/>


    <origin
      xyz="-0.044501 -0.019598 0.004238"
      rpy="0 0 0" />
    <parent
      link="waist_Link" />
    <child
      link="R_hip_Link" />
    <axis
      xyz="0 0 1" />
  </joint>
  <link
    name="R_thign_Link">
    <inertial>
      <origin
        xyz="-0.0036238 0.0086255 -0.010904"
        rpy="0 0 0" />
      <mass
        value="0.0062294" />
      <inertia
        ixx="2.4081E-06"
        ixy="0"
        ixz="0"
        iyy="2.205E-06"
        iyz="0"
        izz="9.1712E-07" />
    </inertial>
    <visual>
      <origin
        xyz="0 0 0"
        rpy="0 0 0" />
      <geometry>
        <mesh
          filename="package://humanrobo/src/meshes/R_thign_Link.STL" />
          <!-- <box size="0.01 0.01 0.01"/> -->
      </geometry>
      <material
        name="">
        <color
          rgba="0.89804 0.91765 0.92941 1" />
      </material>
    </visual>
    <collision>
      <origin
        xyz="0 0 0"
        rpy="0 0 0" />
      <geometry>
        <!-- <mesh
          filename="package://humanrobo/src/meshes/R_thign_Link.STL" /> -->
          <box size="0.01 0.01 0.01"/>
      </geometry>
    </collision>
  </link>
  <joint
    name="R_thign_SP"
    type="continuous">
     <dynamics damping="0.002"/>


    <origin
      xyz="0.028692 -0.0263 0.009"
      rpy="1.5708 -1.5708 1.5708" />
    <parent
      link="R_hip_Link" />
    <child
      link="R_thign_Link" />
    <axis
      xyz="0 1 0" />
  </joint>
  <link
    name="R_thignD_Link">
    <inertial>
      <origin
        xyz="-0.009327 -0.026501 -2.1473E-08"
        rpy="0 0 0" />
      <mass
        value="0.075004" />
      <inertia
        ixx="3.977E-05"
        ixy="0"
        ixz="0"
        iyy="1.39E-05"
        iyz="0"
        izz="4.122E-05" />
    </inertial>
    <visual>
      <origin
        xyz="0 0 0"
        rpy="0 0 0" />
      <geometry>
        <mesh
          filename="package://humanrobo/src/meshes/R_thignD_Link.STL" />
          <!-- <box size="0.01 0.01 0.01"/> -->
      </geometry>
      <material
        name="">
        <color
          rgba="0.75294 0.75294 0.75294 1" />
      </material>
    </visual>
    <collision>
      <origin
        xyz="0 0 0"
        rpy="0 0 0" />
      <geometry>
        <!-- <mesh
          filename="package://humanrobo/src/meshes/R_thignD_Link.STL" /> -->
          <box size="0.01 0.01 0.01"/>
      </geometry>
    </collision>
  </link>
  <joint
    name="R_thign_BF"
    type="continuous">
     <dynamics damping="0.002"/>


    <origin
      xyz="-0.0078324 0.022002 0"
      rpy="-1.5708 -1.5708 -1.5708" />
    <parent
      link="R_thign_Link" />
    <child
      link="R_thignD_Link" />
    <axis
      xyz="1 0 0" />
  </joint>
  <link
    name="R_shank_Link">
    <inertial>
      <origin
        xyz="-0.0097137 -0.034273 0.00041479"
        rpy="0 0 0" />
      <mass
        value="0.057967" />
      <inertia
        ixx="2.363E-05"
        ixy="0"
        ixz="0"
        iyy="1.508E-05"
        iyz="0"
        izz="2.87E-05" />
    </inertial>
    <visual>
      <origin
        xyz="0 0 0"
        rpy="0 0 0" />
      <geometry>
        <mesh
          filename="package://humanrobo/src/meshes/R_shank_Link.STL" />
          <!-- <box size="0.01 0.01 0.01"/> -->
      </geometry>
      <material
        name="">
        <color
          rgba="0.75294 0.75294 0.75294 1" />
      </material>
    </visual>
    <collision>
      <origin
        xyz="0 0 0"
        rpy="0 0 0" />
      <geometry>
        <!-- <mesh
          filename="package://humanrobo/src/meshes/R_shank_Link.STL" /> -->
          <box size="0.01 0.01 0.01"/>
      </geometry>
    </collision>
  </link>
  <joint
    name="R_knee"
    type="continuous">
     <dynamics damping="0.002"/>


    <origin
      xyz="0 -0.053002 0"
      rpy="0 0 0" />
    <parent
      link="R_thignD_Link" />
    <child
      link="R_shank_Link" />
    <axis
      xyz="1 0 0" />
  </joint>
  <link
    name="R_ankle_Link">
    <inertial>
      <origin
        xyz="-0.00013247 -0.0089377 0.0099976"
        rpy="0 0 0" />
      <mass
        value="0.0265" />
      <inertia
        ixx="1.0413E-05"
        ixy="0"
        ixz="0"
        iyy="1.5837E-05"
        iyz="0"
        izz="1.1392E-05" />
    </inertial>
    <visual>
      <origin
        xyz="0 0 0"
        rpy="0 0 0" />
      <geometry>
        <mesh
          filename="package://humanrobo/src/meshes/R_ankle_Link.STL" />
          <!-- <box size="0.01 0.01 0.01"/> -->
      </geometry>
      <material
        name="">
        <color
          rgba="0.89804 0.91765 0.92941 1" />
      </material>
    </visual>
    <collision>
      <origin
        xyz="0 0 0"
        rpy="0 0 0" />
      <geometry>
        <!-- <mesh
          filename="package://humanrobo/src/meshes/R_ankle_Link.STL" /> -->
          <box size="0.01 0.01 0.01"/>
      </geometry>
    </collision>
  </link>
  <joint
    name="R_ankle_BF"
    type="continuous">
     <dynamics damping="0.002"/>


    <origin
      xyz="0 -0.05329 0"
      rpy="-1.5708 -1.5708 1.5708" />
    <parent
      link="R_shank_Link" />
    <child
      link="R_ankle_Link" />
    <axis
      xyz="0 0 1" />
  </joint>
  <link
    name="R_foot_Link">
    <inertial>
      <origin
        xyz="-0.0075693 -0.0054605 0.005437"
        rpy="0 0 0" />
      <mass
        value="0.055122" />
      <inertia
        ixx="1.955E-05"
        ixy="0"
        ixz="0"
        iyy="2.29E-05"
        iyz="0"
        izz="1.322E-05" />
    </inertial>
    <visual>
      <origin
        xyz="-0.0085 -0.0112 0.005"
        rpy="0 0 0" />
      <geometry>
        <!-- <mesh
          filename="package://humanrobo/src/meshes/R_foot_Link.STL" /> -->
          <box size="0.041 0.011 0.055"/>
      </geometry>
      <material
        name="">
        <color
          rgba="0.75294 0.75294 0.75294 1" />
      </material>
    </visual>
    <collision>
      <origin
        xyz="-0.0085 -0.0112 0.005"
        rpy="0 0 0" />
      <geometry>
        <!-- <mesh
          filename="package://humanrobo/src/meshes/R_foot_Link.STL" /> -->
          <box size="0.041 0.011 0.055"/>
      </geometry>
    </collision>
  </link>
  <joint
    name="R_foot"
    type="continuous">
    <dynamics damping="0.002"/>


    <origin
      xyz="0 -0.027997 0.002143"
      rpy="0 1.5708 0" />
    <parent
      link="R_ankle_Link" />
    <child
      link="R_foot_Link" />
    <axis
      xyz="0 0 1" />
  </joint>


   <gazebo reference="L_foot_Link">
    <mu1>0.6</mu1>
    <mu2>0.6</mu2>
    <kp value="100000.0"/>
    <kd value="100.0"/>
  </gazebo>
  <gazebo reference="R_foot_Link">
    <mu1>0.6</mu1>
    <mu2>0.6</mu2>
    <kp value="100000.0"/>
    <kd value="100.0"/>
  </gazebo>

<!-- <transmission name="neck_yaw">
   <type>transmission_interface/SimpleTransmission</type>
   <joint name="neck_yaw">
      <hardwareInterface>hardware_interface/PositionJointInterface</hardwareInterface>
   </joint>
   <actuator name="neck_yaw">
     <hardwareInterface>hardware_interface/PositionJointInterface</hardwareInterface>
   <mechanicalReduction>1</mechanicalReduction>
   </actuator>
</transmission>
<transmission name="neck_roll">
   <type>transmission_interface/SimpleTransmission</type>
   <joint name="neck_roll">
      <hardwareInterface>hardware_interface/PositionJointInterface</hardwareInterface>
   </joint>
   <actuator name="neck_roll">
     <hardwareInterface>hardware_interface/PositionJointInterface</hardwareInterface>
   <mechanicalReduction>1</mechanicalReduction>
   </actuator>
</transmission>
<transmission name="neck_pitch">
   <type>transmission_interface/SimpleTransmission</type>
   <joint name="neck_pitch">
      <hardwareInterface>hardware_interface/PositionJointInterface</hardwareInterface>
   </joint>
   <actuator name="neck_pitch">
     <hardwareInterface>hardware_interface/PositionJointInterface</hardwareInterface>
   <mechanicalReduction>1</mechanicalReduction>
   </actuator>
</transmission>
<transmission name="L_shoulder_BF">
   <type>transmission_interface/SimpleTransmission</type>
   <joint name="L_shoulder_BF">
      <hardwareInterface>hardware_interface/PositionJointInterface</hardwareInterface>
   </joint>
   <actuator name="L_shoulder_BF">
     <hardwareInterface>hardware_interface/PositionJointInterface</hardwareInterface>
   <mechanicalReduction>1</mechanicalReduction>
   </actuator>
</transmission>
<transmission name="L_shoulder_IO">
   <type>transmission_interface/SimpleTransmission</type>
   <joint name="L_shoulder_IO">
      <hardwareInterface>hardware_interface/PositionJointInterface</hardwareInterface>
   </joint>
   <actuator name="L_shoulder_IO">
     <hardwareInterface>hardware_interface/PositionJointInterface</hardwareInterface>
   <mechanicalReduction>1</mechanicalReduction>
   </actuator>
</transmission>
<transmission name="L_elbow_SP">
   <type>transmission_interface/SimpleTransmission</type>
   <joint name="L_elbow_SP">
      <hardwareInterface>hardware_interface/PositionJointInterface</hardwareInterface>
   </joint>
   <actuator name="L_elbow_SP">
     <hardwareInterface>hardware_interface/PositionJointInterface</hardwareInterface>
   <mechanicalReduction>1</mechanicalReduction>
   </actuator>
</transmission>
<transmission name="L_elbow_BD">
   <type>transmission_interface/SimpleTransmission</type>
   <joint name="L_elbow_BD">
      <hardwareInterface>hardware_interface/PositionJointInterface</hardwareInterface>
   </joint>
   <actuator name="L_elbow_BD">
     <hardwareInterface>hardware_interface/PositionJointInterface</hardwareInterface>
   <mechanicalReduction>1</mechanicalReduction>
   </actuator>
</transmission>
<transmission name="L_hand">
   <type>transmission_interface/SimpleTransmission</type>
   <joint name="L_hand">
      <hardwareInterface>hardware_interface/PositionJointInterface</hardwareInterface>
   </joint>
   <actuator name="L_hand">
     <hardwareInterface>hardware_interface/PositionJointInterface</hardwareInterface>
   <mechanicalReduction>1</mechanicalReduction>
   </actuator>
</transmission>
<transmission name="R_shoulder_BF">
   <type>transmission_interface/SimpleTransmission</type>
   <joint name="R_shoulder_BF">
      <hardwareInterface>hardware_interface/PositionJointInterface</hardwareInterface>
   </joint>
   <actuator name="R_shoulder_BF">
     <hardwareInterface>hardware_interface/PositionJointInterface</hardwareInterface>
   <mechanicalReduction>1</mechanicalReduction>
   </actuator>
</transmission>
<transmission name="R_shoulder_IO">
   <type>transmission_interface/SimpleTransmission</type>
   <joint name="R_shoulder_IO">
      <hardwareInterface>hardware_interface/PositionJointInterface</hardwareInterface>
   </joint>
   <actuator name="R_shoulder_IO">
     <hardwareInterface>hardware_interface/PositionJointInterface</hardwareInterface>
   <mechanicalReduction>1</mechanicalReduction>
   </actuator>
</transmission> -->
<!-- <transmission name="R_elbow_SP">
   <type>transmission_interface/SimpleTransmission</type>
   <joint name="R_elbow_SP">
      <hardwareInterface>hardware_interface/PositionJointInterface</hardwareInterface>
   </joint>
   <actuator name="R_elbow_SP">
     <hardwareInterface>hardware_interface/PositionJointInterface</hardwareInterface>
   <mechanicalReduction>1</mechanicalReduction>
   </actuator>
</transmission> -->
<!-- <transmission name="R_elbow_BD">
   <type>transmission_interface/SimpleTransmission</type>
   <joint name="R_elbow_BD">
      <hardwareInterface>hardware_interface/PositionJointInterface</hardwareInterface>
   </joint>
   <actuator name="R_elbow_BD">
     <hardwareInterface>hardware_interface/PositionJointInterface</hardwareInterface>
   <mechanicalReduction>1</mechanicalReduction>
   </actuator>
</transmission>
<transmission name="R_hand">
   <type>transmission_interface/SimpleTransmission</type>
   <joint name="R_hand">
      <hardwareInterface>hardware_interface/PositionJointInterface</hardwareInterface>
   </joint>
   <actuator name="R_hand">
     <hardwareInterface>hardware_interface/PositionJointInterface</hardwareInterface>
   <mechanicalReduction>1</mechanicalReduction>
   </actuator>
</transmission> -->
<!-- <transmission name="waist_bow">
   <type>transmission_interface/SimpleTransmission</type>
   <joint name="waist_bow">
      <hardwareInterface>hardware_interface/PositionJointInterface</hardwareInterface>
   </joint>
   <actuator name="waist_bow">
     <hardwareInterface>hardware_interface/PositionJointInterface</hardwareInterface>
   <mechanicalReduction>1</mechanicalReduction>
   </actuator>
</transmission> -->
<!-- <transmission name="waist_SP">
   <type>transmission_interface/SimpleTransmission</type>
   <joint name="waist_SP">
      <hardwareInterface>hardware_interface/PositionJointInterface</hardwareInterface>
   </joint>
   <actuator name="waist_SP">
     <hardwareInterface>hardware_interface/PositionJointInterface</hardwareInterface>
   <mechanicalReduction>1</mechanicalReduction>
   </actuator>
</transmission>  -->
<transmission name="L_hip_IO">
   <type>transmission_interface/SimpleTransmission</type>
   <joint name="L_hip_IO">
      <hardwareInterface>hardware_interface/PositionJointInterface</hardwareInterface>
   </joint>
   <actuator name="L_hip_IO">
     <hardwareInterface>hardware_interface/PositionJointInterface</hardwareInterface>
   <mechanicalReduction>1</mechanicalReduction>
   </actuator>
</transmission>
<transmission name="L_thign_SP">
   <type>transmission_interface/SimpleTransmission</type>
   <joint name="L_thign_SP">
      <hardwareInterface>hardware_interface/PositionJointInterface</hardwareInterface>
   </joint>
   <actuator name="L_thign_SP">
     <hardwareInterface>hardware_interface/PositionJointInterface</hardwareInterface>
   <mechanicalReduction>1</mechanicalReduction>
   </actuator>
</transmission>
<transmission name="L_thign_BF">
   <type>transmission_interface/SimpleTransmission</type>
   <joint name="L_thign_BF">
      <hardwareInterface>hardware_interface/PositionJointInterface</hardwareInterface>
   </joint>
   <actuator name="L_thign_BF">
     <hardwareInterface>hardware_interface/PositionJointInterface</hardwareInterface>
   <mechanicalReduction>1</mechanicalReduction>
   </actuator>
</transmission>
<transmission name="L_knee">
   <type>transmission_interface/SimpleTransmission</type>
   <joint name="L_knee">
      <hardwareInterface>hardware_interface/PositionJointInterface</hardwareInterface>
   </joint>
   <actuator name="L_knee">
     <hardwareInterface>hardware_interface/PositionJointInterface</hardwareInterface>
   <mechanicalReduction>1</mechanicalReduction>
   </actuator>
</transmission>
<transmission name="L_ankle_BF">
   <type>transmission_interface/SimpleTransmission</type>
   <joint name="L_ankle_BF">
      <hardwareInterface>hardware_interface/PositionJointInterface</hardwareInterface>
   </joint>
   <actuator name="L_ankle_BF">
     <hardwareInterface>hardware_interface/PositionJointInterface</hardwareInterface>
   <mechanicalReduction>1</mechanicalReduction>
   </actuator>
</transmission>
<transmission name="L_foot">
   <type>transmission_interface/SimpleTransmission</type>
   <joint name="L_foot">
      <hardwareInterface>hardware_interface/PositionJointInterface</hardwareInterface>
   </joint>
   <actuator name="L_foot">
     <hardwareInterface>hardware_interface/PositionJointInterface</hardwareInterface>
   <mechanicalReduction>1</mechanicalReduction>
   </actuator>
</transmission>
<transmission name="R_hip_IO">
   <type>transmission_interface/SimpleTransmission</type>
   <joint name="R_hip_IO">
      <hardwareInterface>hardware_interface/PositionJointInterface</hardwareInterface>
   </joint>
   <actuator name="R_hip_IO">
     <hardwareInterface>hardware_interface/PositionJointInterface</hardwareInterface>
   <mechanicalReduction>1</mechanicalReduction>
   </actuator>
</transmission>
<transmission name="R_thign_SP">
   <type>transmission_interface/SimpleTransmission</type>
   <joint name="R_thign_SP">
      <hardwareInterface>hardware_interface/PositionJointInterface</hardwareInterface>
   </joint>
   <actuator name="R_thign_SP">
     <hardwareInterface>hardware_interface/PositionJointInterface</hardwareInterface>
   <mechanicalReduction>1</mechanicalReduction>
   </actuator>
</transmission>
<transmission name="R_thign_BF">
   <type>transmission_interface/SimpleTransmission</type>
   <joint name="R_thign_BF">
      <hardwareInterface>hardware_interface/PositionJointInterface</hardwareInterface>
   </joint>
   <actuator name="R_thign_BF">
     <hardwareInterface>hardware_interface/PositionJointInterface</hardwareInterface>
   <mechanicalReduction>1</mechanicalReduction>
   </actuator>
</transmission>
<transmission name="R_knee">
   <type>transmission_interface/SimpleTransmission</type>
   <joint name="R_knee">
      <hardwareInterface>hardware_interface/PositionJointInterface</hardwareInterface>
   </joint>
   <actuator name="R_knee">
     <hardwareInterface>hardware_interface/PositionJointInterface</hardwareInterface>
   <mechanicalReduction>1</mechanicalReduction>
   </actuator>
</transmission>
<transmission name="R_ankle_BF">
   <type>transmission_interface/SimpleTransmission</type>
   <joint name="R_ankle_BF">
      <hardwareInterface>hardware_interface/PositionJointInterface</hardwareInterface>
   </joint>
   <actuator name="R_ankle_BF">
     <hardwareInterface>hardware_interface/PositionJointInterface</hardwareInterface>
   <mechanicalReduction>1</mechanicalReduction>
   </actuator>
</transmission>
<transmission name="R_foot">
   <type>transmission_interface/SimpleTransmission</type>
   <joint name="R_foot">
      <hardwareInterface>hardware_interface/PositionJointInterface</hardwareInterface>
   </joint>
   <actuator name="R_foot">
     <hardwareInterface>hardware_interface/PositionJointInterface</hardwareInterface>
   <mechanicalReduction>1</mechanicalReduction>
   </actuator>
</transmission> 



<gazebo>
	<plugin filename="libgazebo_ros_control.so" name="gazebo_ros_control">
		<robotNamespace>humanrobo</robotNamespace>
     <controlPeriod>0.001</controlPeriod>
	</plugin>
</gazebo>
</robot>
